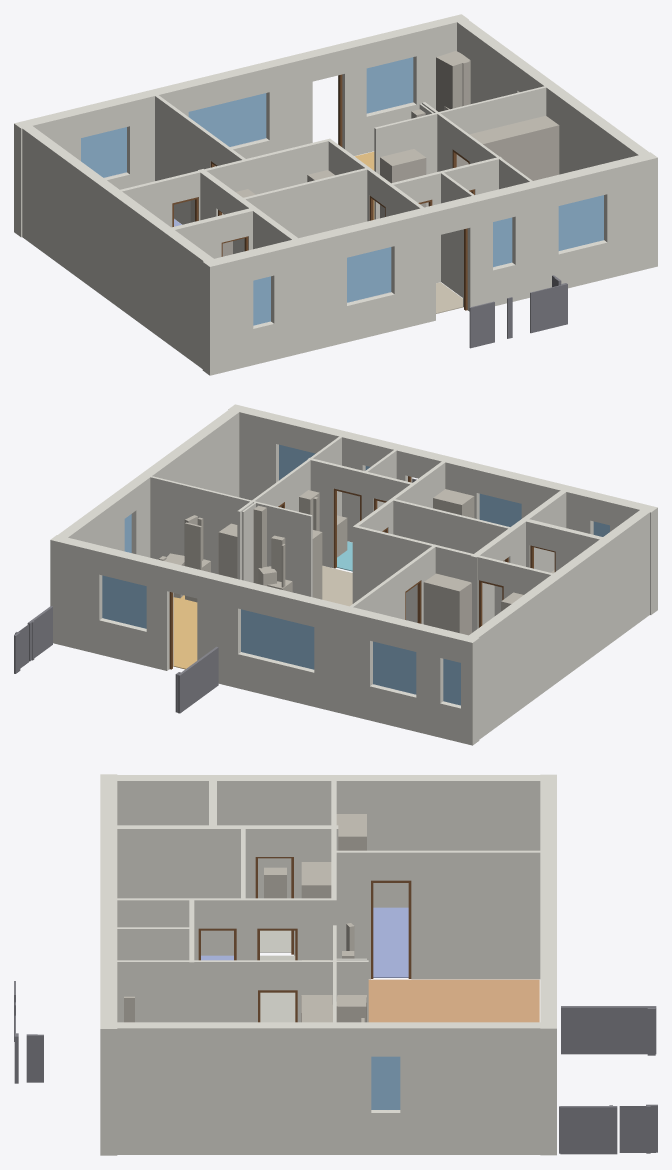
3 views of the same model, one above another, from view 1: azimuth 30°, elevation 25°; view 2: azimuth 150°, elevation 25°; view 3: azimuth 270°, elevation 25° (orthographic). The views are drawn at different scales.
Visible parts, largest first — view 1: walls, furniture_10_closet, railings, window_6, window_3, window_1, window_2, window_4, furniture_0_closet, furniture_13_closet, window_9, window_16 (+1 smaller); view 2: walls, railings, window_6, furniture_3_closet, window_3, window_4, floor_2_Kitchen, window_2, floor_3_Entry, furniture_4_closet, furniture_39_chimney, furniture_17_closet (+4 smaller); view 3: walls, railings, floor_1_Living_Room, floor_0_Bed_Room, window_8, floor_6_Undefined, furniture_11_closet, furniture_2_closet, furniture_10_closet, furniture_4_closet, door_12, furniture_34_sink (+1 smaller).
Boxes of the visible parts, x1=… form: walls: x1=14, y1=14, x2=657, y2=375; furniture_10_closet: x1=456, y1=115, x2=559, y2=180; railings: x1=469, y1=275, x2=567, y2=348; window_6: x1=188, y1=93, x2=266, y2=146; window_3: x1=366, y1=57, x2=413, y2=113; window_1: x1=558, y1=195, x2=603, y2=250; window_2: x1=347, y1=247, x2=391, y2=302; window_4: x1=81, y1=127, x2=126, y2=177; furniture_0_closet: x1=436, y1=51, x2=470, y2=111; furniture_13_closet: x1=380, y1=149, x2=426, y2=218; window_9: x1=493, y1=217, x2=512, y2=266; window_16: x1=253, y1=276, x2=270, y2=325; walls: x1=50, y1=404, x2=657, y2=745; railings: x1=14, y1=478, x2=416, y2=713; window_6: x1=241, y1=609, x2=314, y2=669; furniture_3_closet: x1=423, y1=573, x2=471, y2=635; window_3: x1=102, y1=575, x2=146, y2=628; window_4: x1=373, y1=641, x2=416, y2=694; floor_2_Kitchen: x1=173, y1=595, x2=197, y2=669; window_2: x1=479, y1=493, x2=521, y2=526; floor_3_Entry: x1=322, y1=565, x2=352, y2=606; furniture_4_closet: x1=218, y1=523, x2=237, y2=578; furniture_39_chimney: x1=253, y1=505, x2=266, y2=583; furniture_17_closet: x1=433, y1=489, x2=474, y2=518; walls: x1=100, y1=774, x2=556, y2=1155; railings: x1=14, y1=981, x2=657, y2=1154; floor_1_Living_Room: x1=368, y1=979, x2=539, y2=1022; floor_0_Bed_Room: x1=373, y1=907, x2=408, y2=977; window_8: x1=371, y1=1056, x2=400, y2=1109; floor_6_Undefined: x1=260, y1=955, x2=295, y2=1022; furniture_11_closet: x1=301, y1=862, x2=331, y2=898; furniture_2_closet: x1=336, y1=814, x2=366, y2=850; furniture_10_closet: x1=301, y1=995, x2=332, y2=1022; furniture_4_closet: x1=336, y1=995, x2=366, y2=1022; door_12: x1=371, y1=880, x2=411, y2=978; furniture_34_sink: x1=264, y1=867, x2=286, y2=898.
Size of the model in its own units: 11.64 by 2.72 by 12.44.
